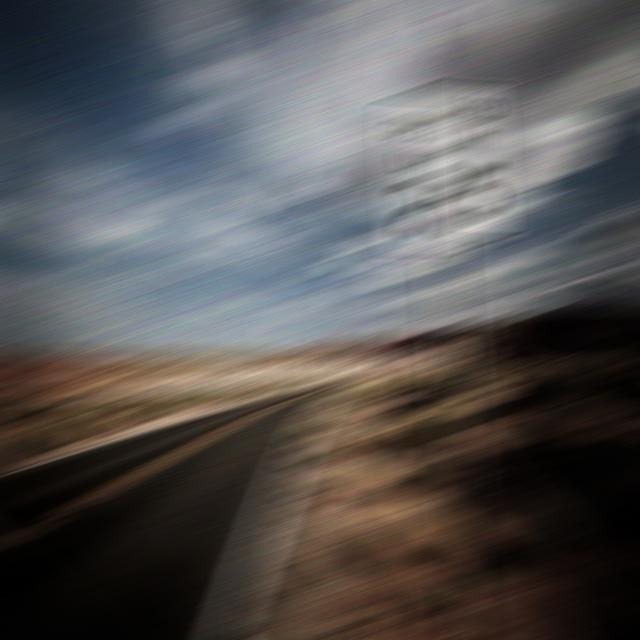speedLimit25: (385, 84, 503, 251)
